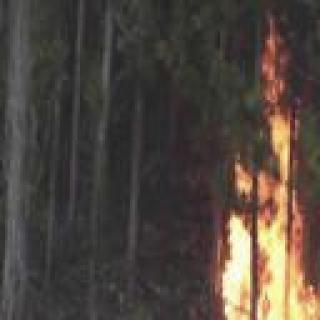fire: (165, 50, 320, 320)
